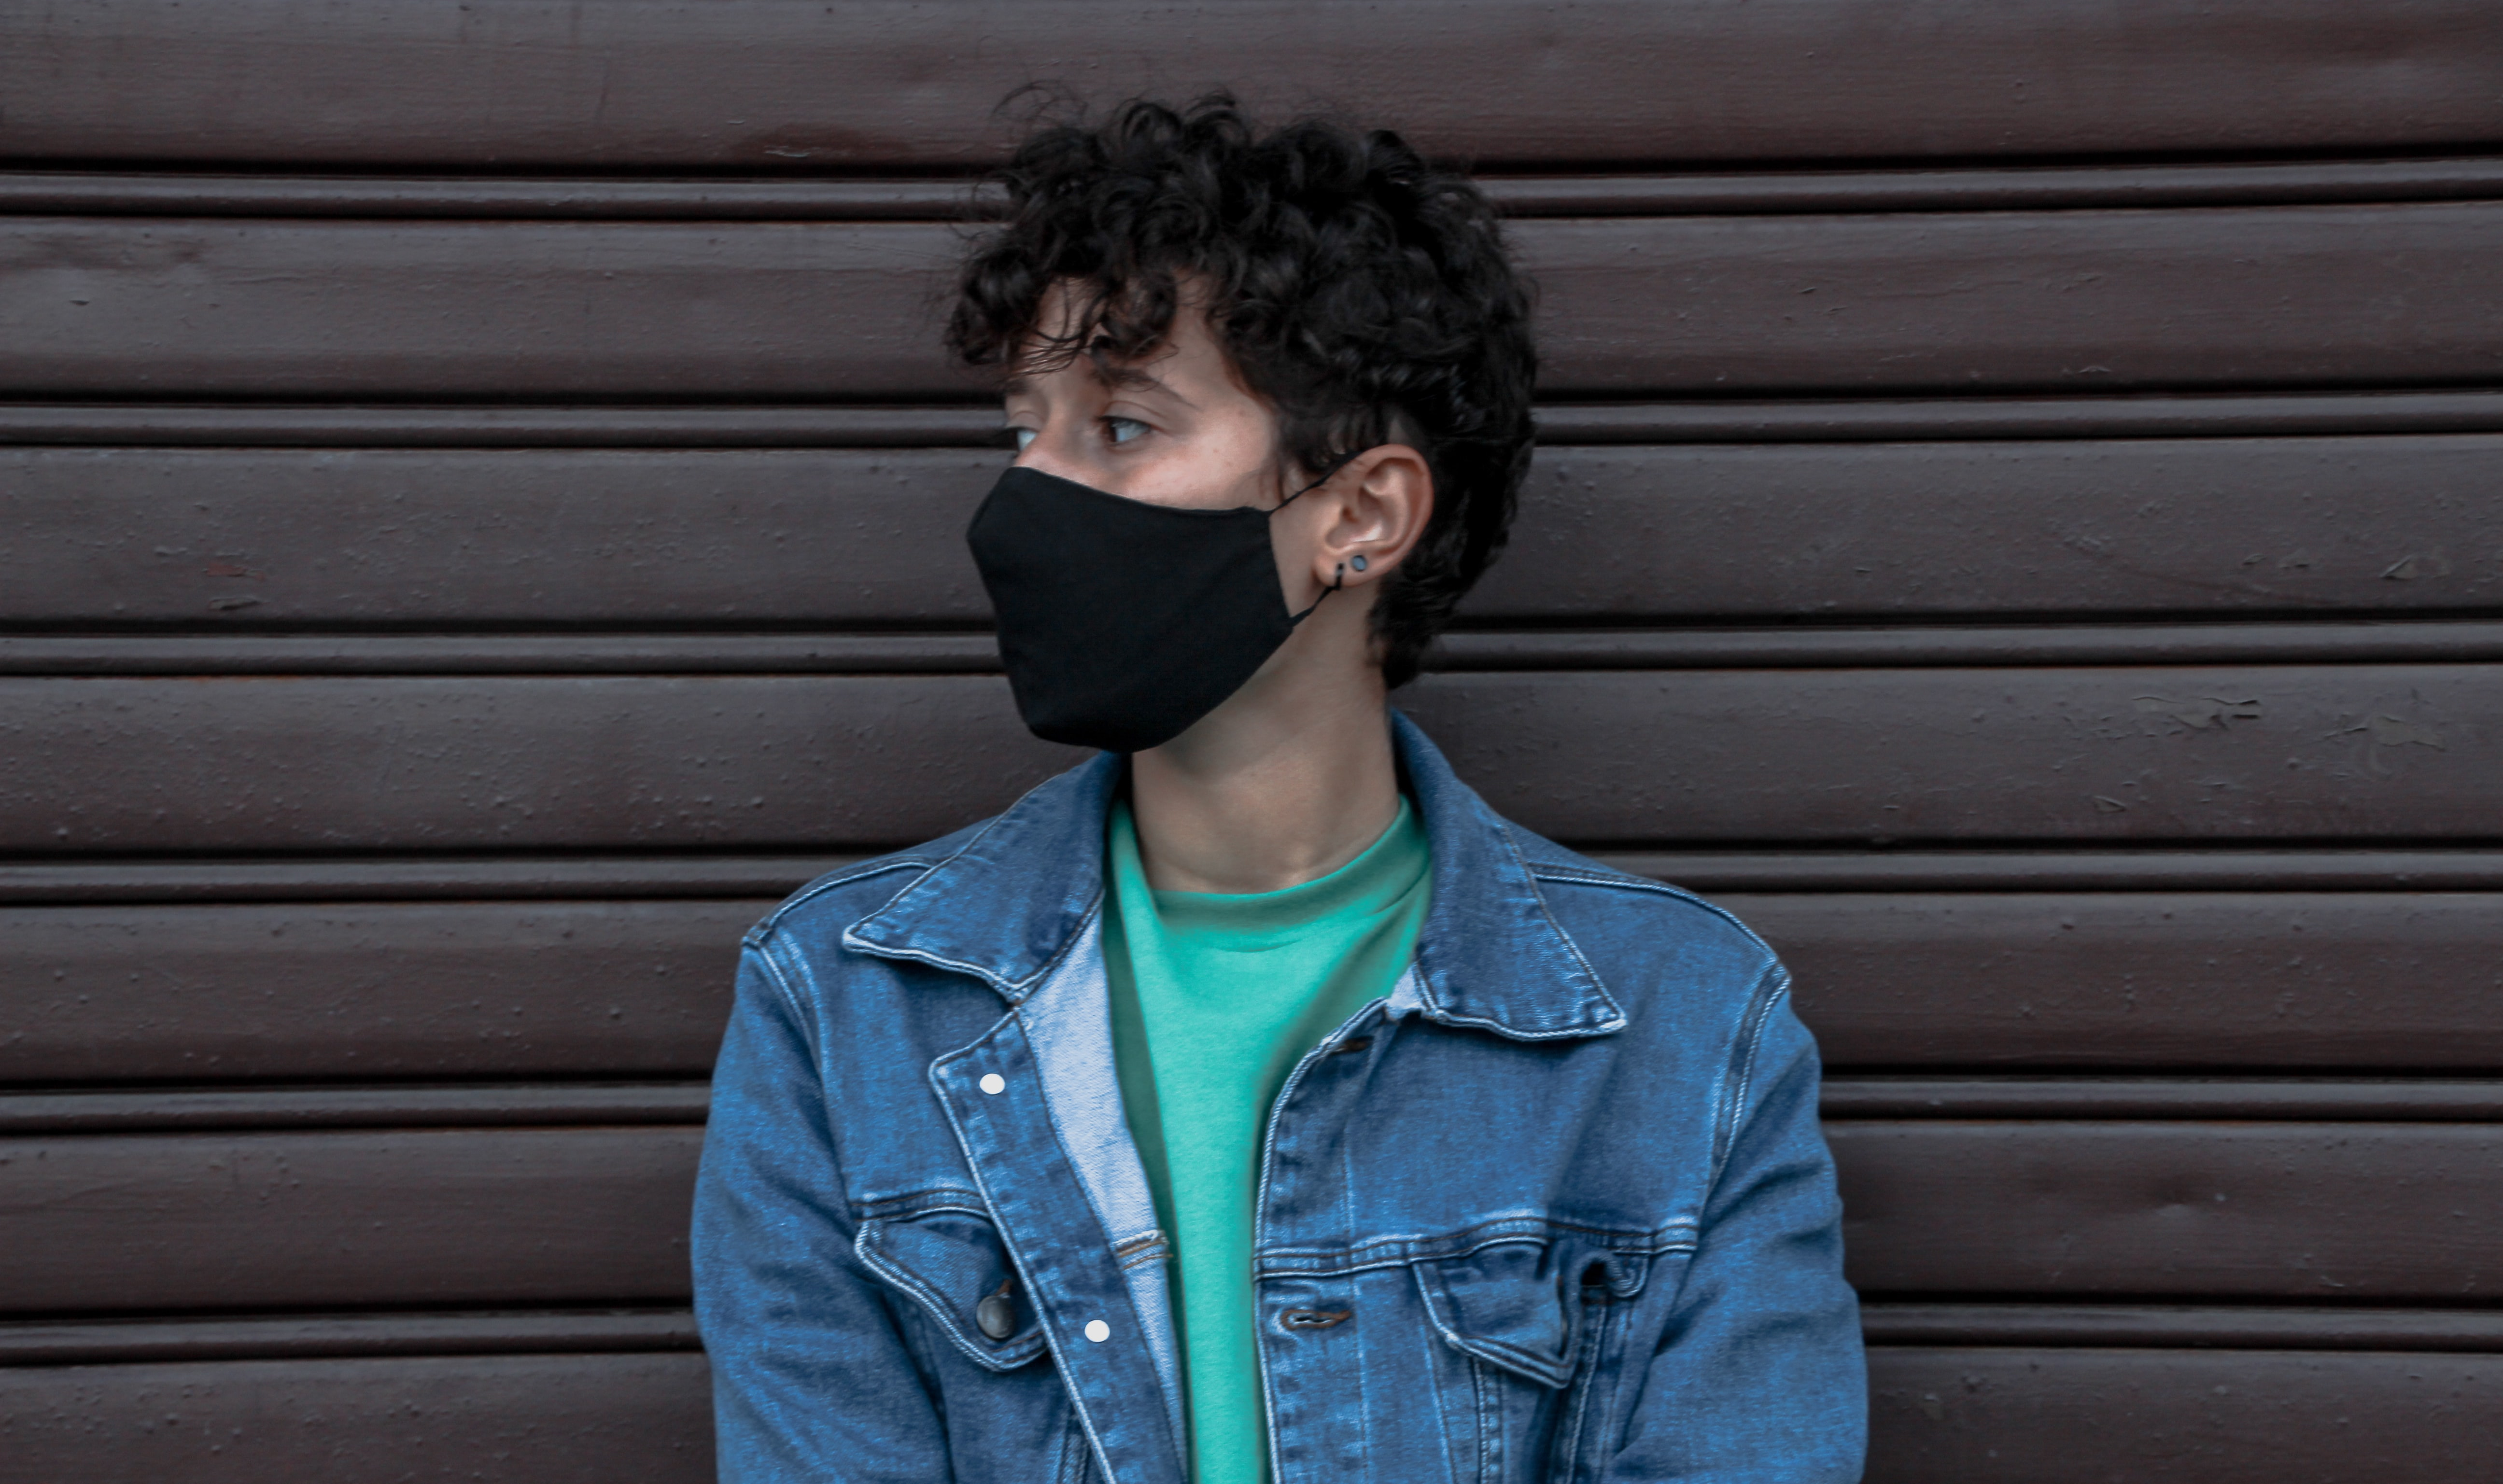mask: (926, 463, 1346, 764)
person: (689, 77, 1913, 1484)
